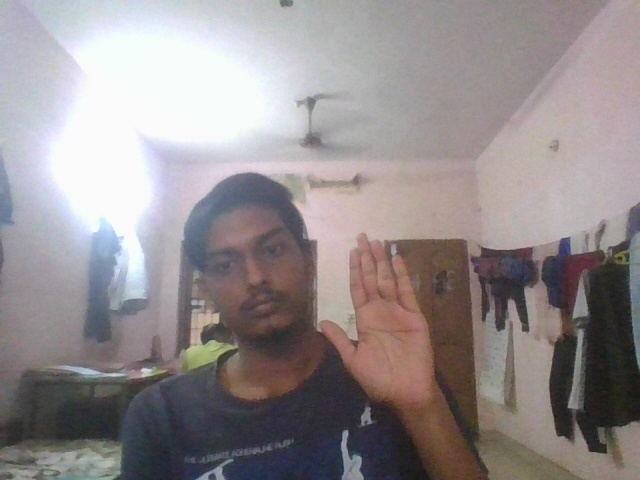hello: (317, 230, 439, 414)
